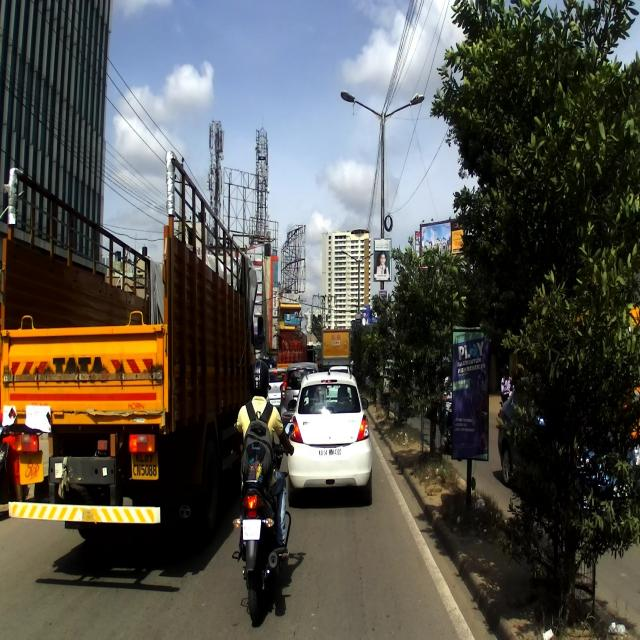car: (286, 362, 372, 506)
motorcycle: (236, 418, 291, 624), (0, 425, 30, 504)
truck: (0, 150, 264, 548)
